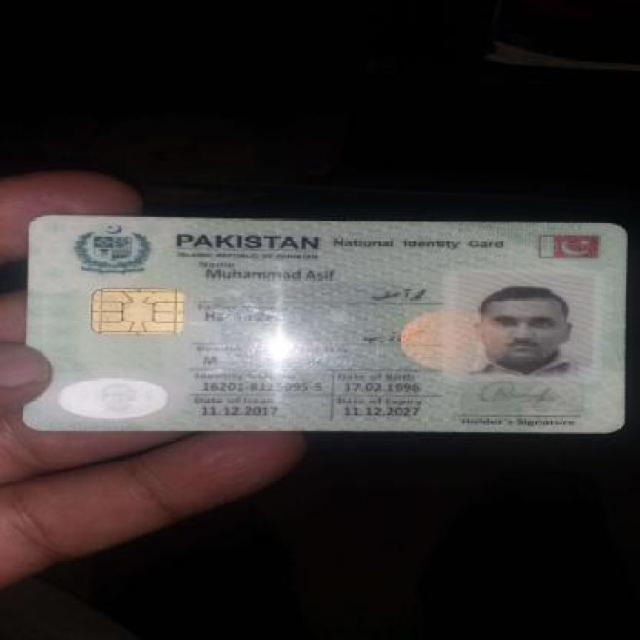Front: (12, 208, 626, 442)
